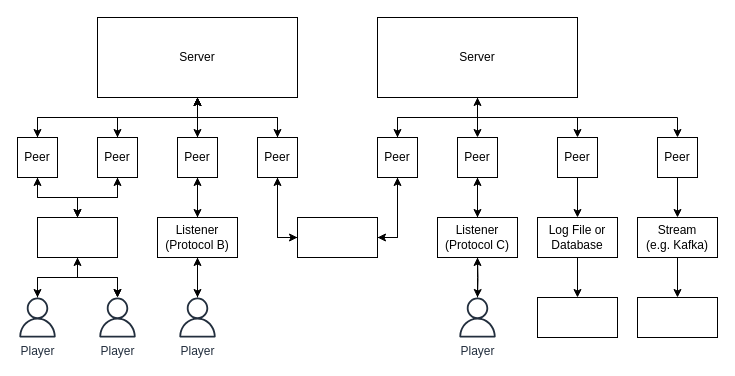
Image size: 735x376. Some labels were removed from this diagram. The centre of each missing label's shape, as x and y in pixels:
Big Data: point (577, 317)
Cascader: point (337, 237)
Cheater Detection: point (677, 317)
Listener (Protocol A): point (77, 237)
